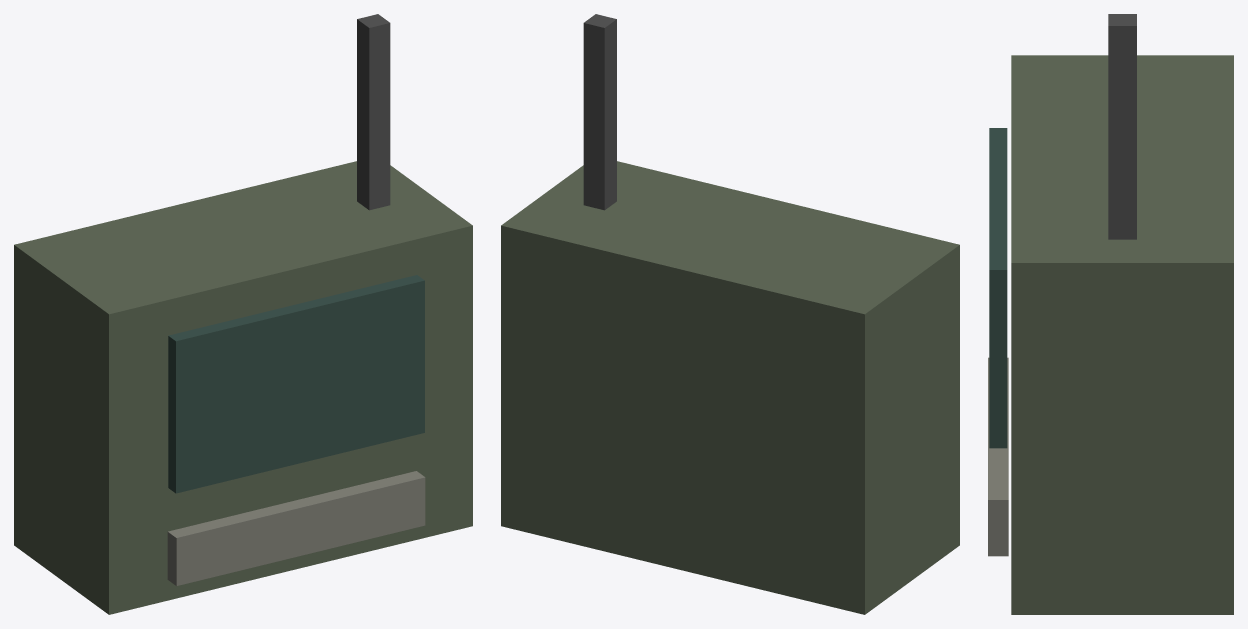
The model's file is radio.gltf.
3 renders of one model, left to right at view 1: azimuth 30°, elevation 25°; view 2: azimuth 150°, elevation 25°; view 3: azimuth 270°, elevation 25°, orthographic. The views are drawn at different scales.
Bounding box in the file's own units: 0.95 × 1.2 × 0.475.
